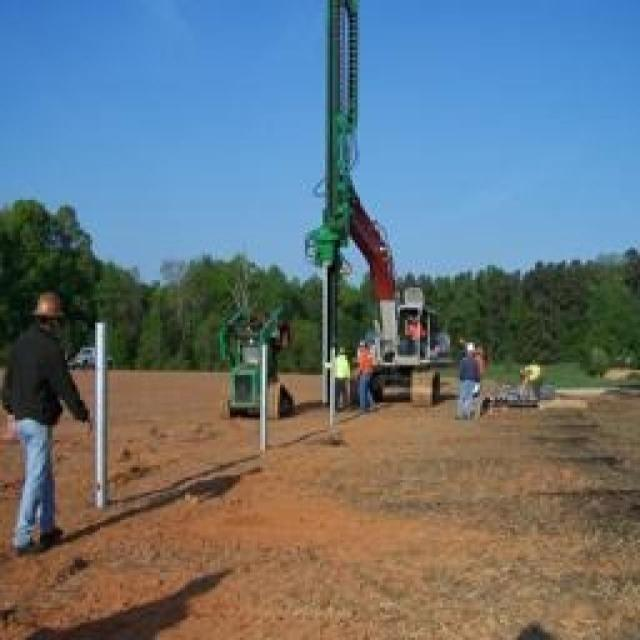Helmet: (0, 326, 76, 466), (9, 276, 82, 337)
